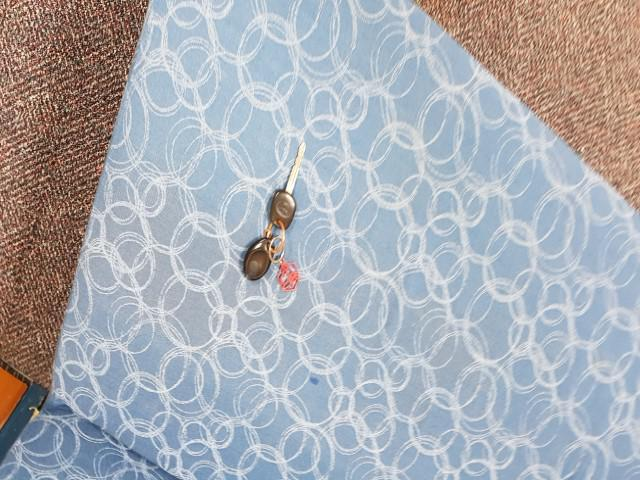key: (269, 142, 307, 226)
